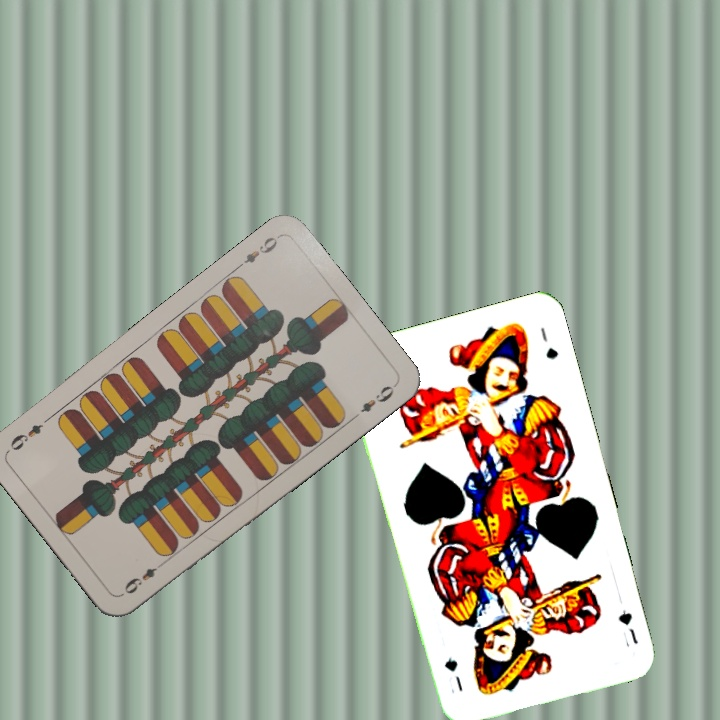E9: (232, 231, 281, 272), (118, 558, 168, 598)
GU: (614, 606, 641, 650)
